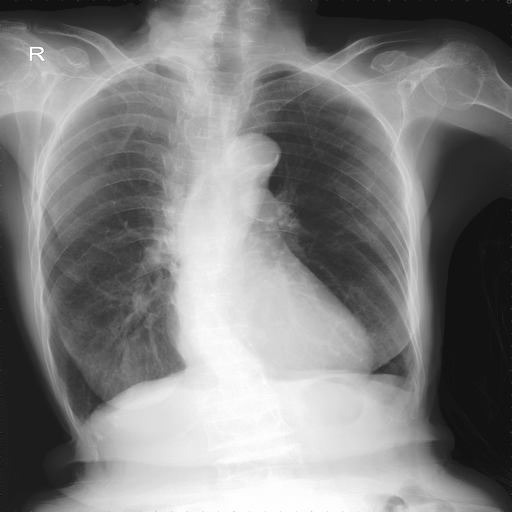Calcification: (91, 62, 143, 89), (290, 61, 346, 84), (63, 410, 97, 436), (399, 371, 418, 400)
Consolidation: (219, 134, 280, 180)
Nodule/Mass: (164, 308, 367, 392)
Other lesion: (177, 238, 274, 424), (164, 128, 229, 349)
Pleural effusion: (63, 410, 97, 436), (393, 364, 418, 392)
